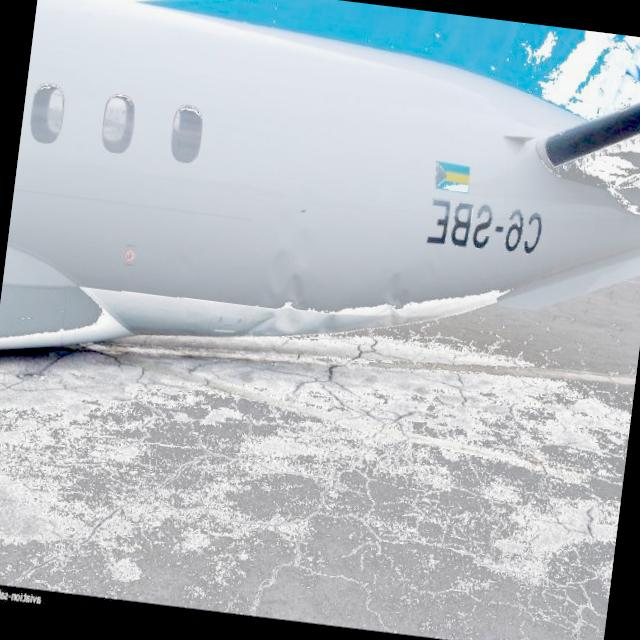dent: (249, 223, 349, 341), (364, 267, 422, 330)
